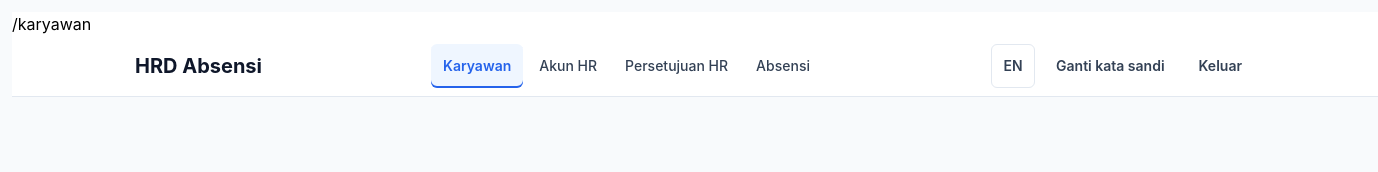
HrdLayout › offers change password in the header and routes to the page
Click the button with test id "shell-change-password" at [1110, 66], box [1043,44,1178,88]
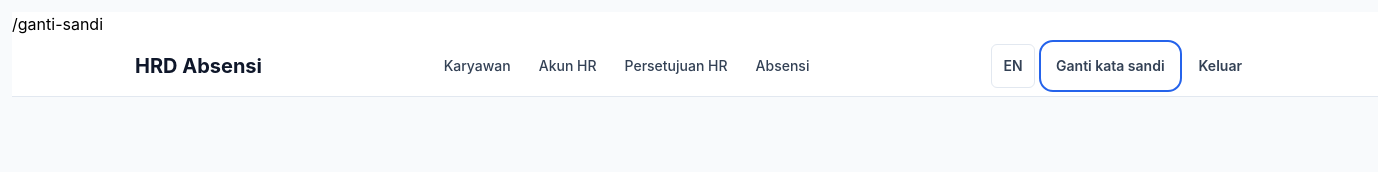
Check: the text with test id "location-path" reads "/ganti-sandi", box [12,14,103,34]
